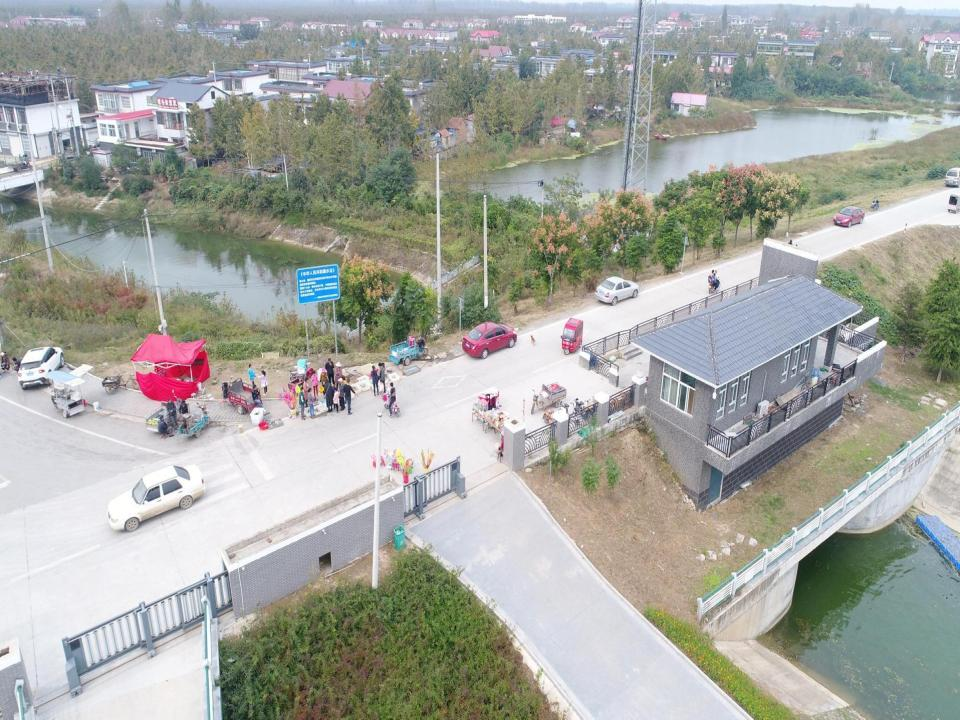car: (103, 465, 207, 532), (16, 344, 64, 390), (462, 321, 517, 360), (594, 275, 640, 305), (832, 206, 867, 228), (86, 140, 106, 158)
truck: (54, 146, 78, 162)
